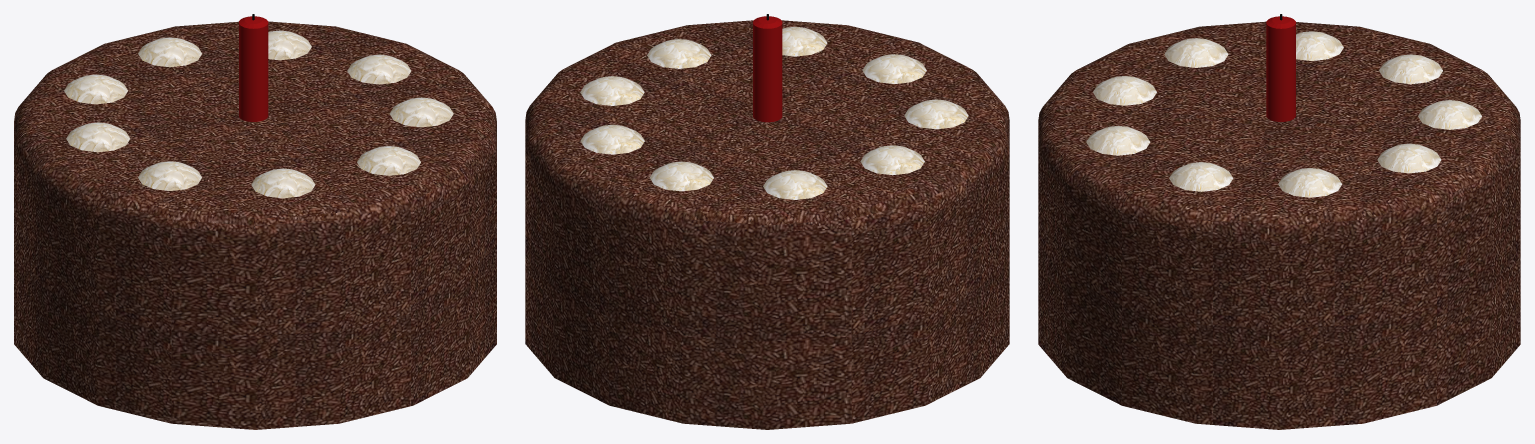
The model's file is TheCakeIsALie.FBX.
The picture shows the model from 3 angles, left to right: view 1: azimuth 30°, elevation 25°; view 2: azimuth 150°, elevation 25°; view 3: azimuth 270°, elevation 25°; orthographic projection.
Visible parts, largest first — view 1: Cylinder001, Cylinder002, OilTank004, OilTank001, OilTank002, OilTank006, OilTank007, OilTank008, OilTank009, OilTank005, OilTank003; view 2: Cylinder001, Cylinder002, OilTank005, OilTank002, OilTank003, OilTank004, OilTank007, OilTank008, OilTank001, OilTank009, OilTank006; view 3: Cylinder001, Cylinder002, OilTank003, OilTank001, OilTank002, OilTank004, OilTank005, OilTank006, OilTank008, OilTank009, OilTank007.
Boxes of the visible parts, x1=… form: Cylinder001: x1=14, y1=21, x2=496, y2=429; Cylinder002: x1=239, y1=14, x2=268, y2=121; OilTank004: x1=347, y1=54, x2=411, y2=84; OilTank001: x1=64, y1=74, x2=127, y2=104; OilTank002: x1=138, y1=37, x2=202, y2=67; OilTank006: x1=357, y1=146, x2=420, y2=175; OilTank007: x1=66, y1=122, x2=130, y2=152; OilTank008: x1=138, y1=161, x2=201, y2=190; OilTank009: x1=251, y1=168, x2=315, y2=198; OilTank005: x1=389, y1=97, x2=453, y2=127; OilTank003: x1=268, y1=30, x2=311, y2=60; Cylinder001: x1=525, y1=20, x2=1009, y2=429; Cylinder002: x1=753, y1=14, x2=782, y2=122; OilTank005: x1=647, y1=39, x2=711, y2=68; OilTank002: x1=650, y1=161, x2=713, y2=191; OilTank003: x1=580, y1=124, x2=644, y2=154; OilTank004: x1=580, y1=76, x2=644, y2=105; OilTank007: x1=860, y1=145, x2=924, y2=175; OilTank008: x1=904, y1=99, x2=968, y2=129; OilTank001: x1=763, y1=170, x2=827, y2=199; OilTank009: x1=862, y1=54, x2=926, y2=83; OilTank006: x1=782, y1=26, x2=827, y2=56; Cylinder001: x1=1038, y1=21, x2=1520, y2=429; Cylinder002: x1=1266, y1=14, x2=1295, y2=121; OilTank003: x1=1377, y1=143, x2=1441, y2=173; OilTank001: x1=1379, y1=54, x2=1442, y2=84; OilTank002: x1=1418, y1=100, x2=1481, y2=129; OilTank004: x1=1278, y1=168, x2=1342, y2=197; OilTank005: x1=1169, y1=162, x2=1233, y2=191; OilTank006: x1=1086, y1=125, x2=1150, y2=155; OilTank008: x1=1164, y1=38, x2=1228, y2=67; OilTank009: x1=1093, y1=76, x2=1156, y2=105; OilTank007: x1=1296, y1=31, x2=1343, y2=60.
Bounding box in the file's own units: 49.42 × 34.66 × 48.67.
4 materials, 2 textured.
